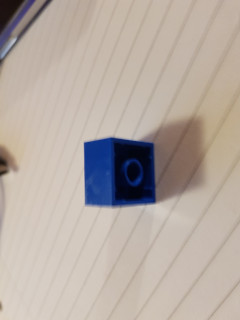2x2 blue: (83, 135, 159, 210)
